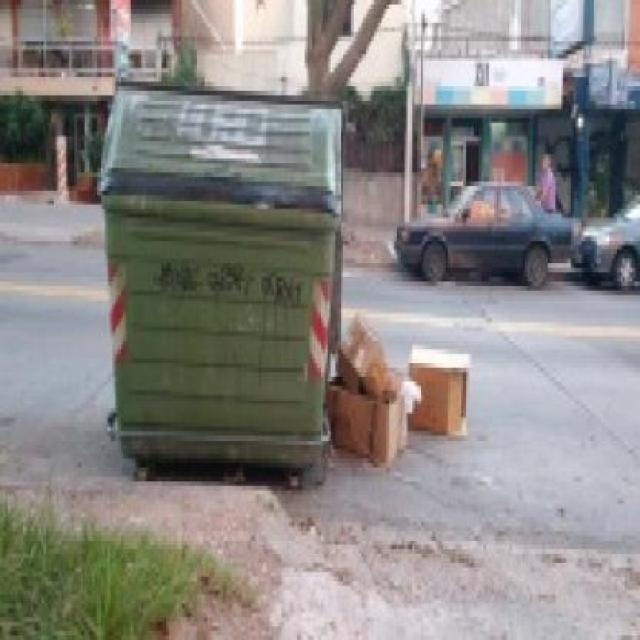garbage: (328, 305, 471, 460)
